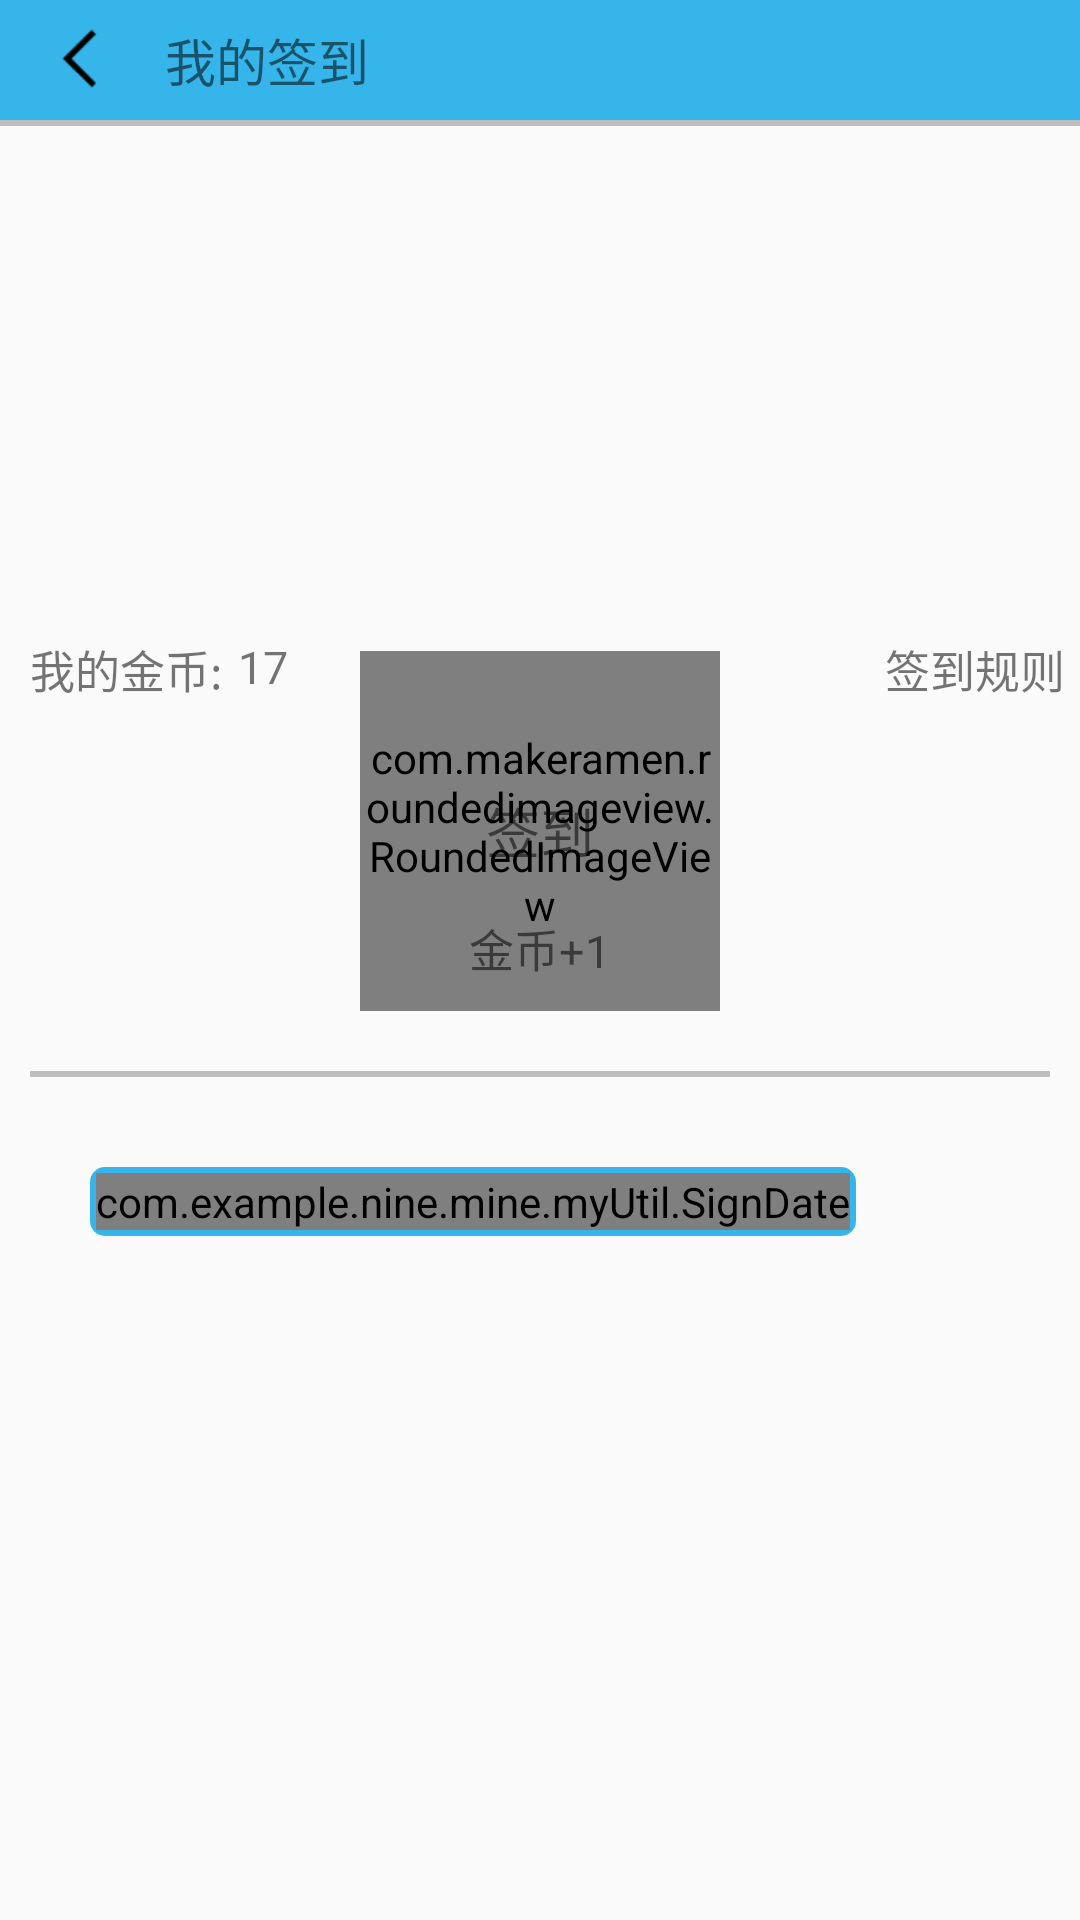

Icons on this 1080x1920 Android screen, each with its box as (x1, y1, x2, y2):
mine leftarrow: (62, 29, 96, 88)
